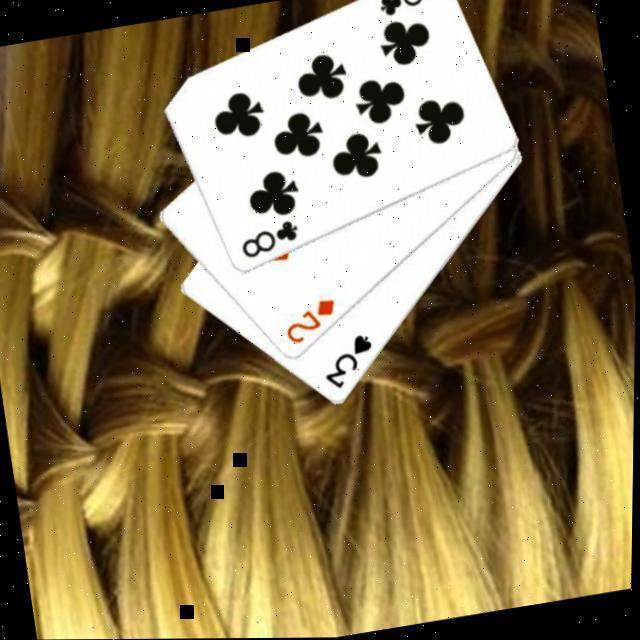2D: (282, 296, 347, 351)
3S: (319, 332, 384, 396)
8C: (238, 217, 308, 265), (374, 0, 443, 23)
